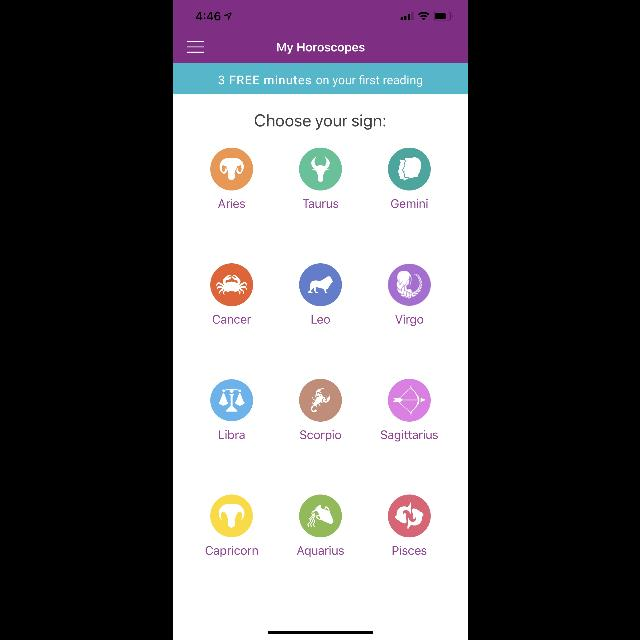icon: (187, 42, 203, 52)
image: (298, 378, 342, 422), (298, 147, 342, 190), (388, 494, 430, 538), (299, 494, 341, 538), (298, 264, 342, 306), (388, 147, 430, 190), (210, 147, 252, 190), (210, 495, 252, 537), (388, 379, 430, 421), (210, 379, 252, 421), (388, 264, 430, 306), (210, 264, 252, 306), (276, 42, 364, 54)
text: (254, 114, 384, 130), (218, 76, 422, 86), (380, 431, 438, 442), (205, 546, 257, 556), (296, 546, 344, 556), (300, 431, 340, 442), (212, 314, 250, 324), (391, 198, 427, 208), (395, 314, 423, 326), (302, 200, 338, 208), (392, 546, 426, 554), (218, 430, 244, 440), (218, 200, 245, 208), (311, 315, 329, 323)
uppertaskbar: (195, 12, 452, 20)
